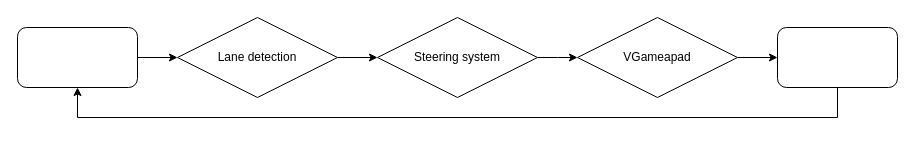
Some shapes in this 915 by 143 pixel diagram are drawn without their labels. The shapes that lost their labels are listed below. From the top down, each one's centre as x and y in pixels, then its label:
At pixel 77 57: "OBS".
At pixel 837 57: "BeamNG".
